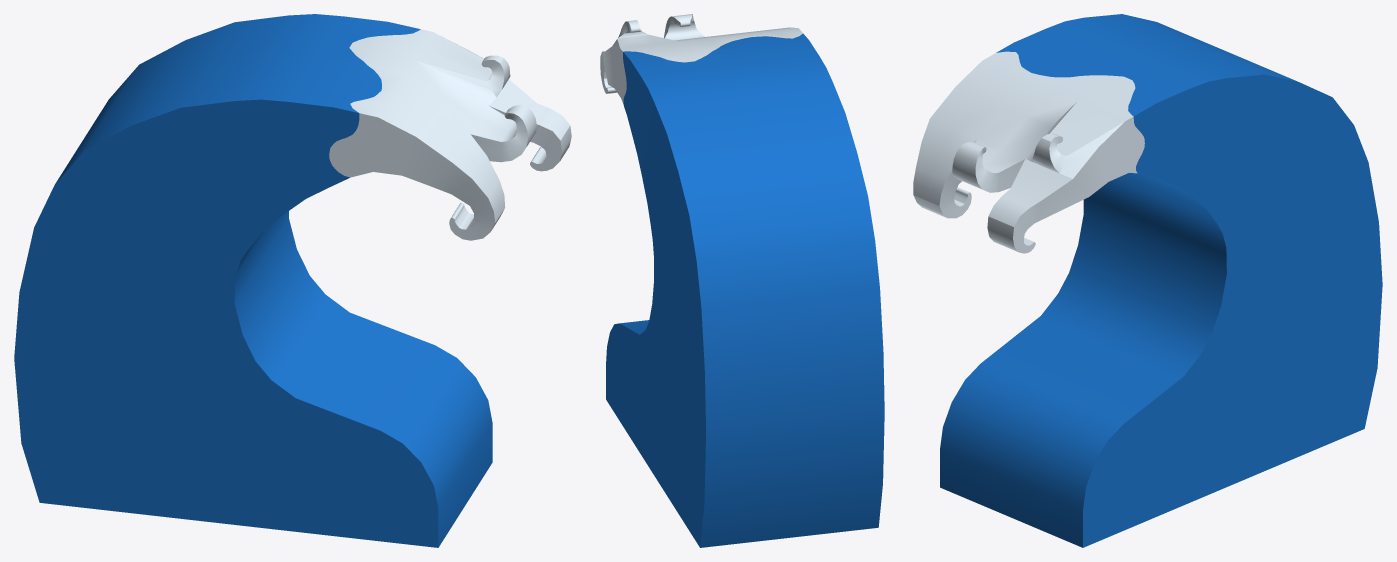
Rendered from water_wave.glb.
The picture shows the model from 3 angles, left to right: view 1: azimuth 30°, elevation 25°; view 2: azimuth 150°, elevation 25°; view 3: azimuth 270°, elevation 25°; orthographic projection. The views are drawn at different scales.
Parts seen in each view (by area): view 1: Cube.731; view 2: Cube.731; view 3: Cube.731.
Boxes of the visible parts, x1,y1,x2,y2 form: Cube.731: (14, 14, 571, 547); Cube.731: (600, 14, 884, 547); Cube.731: (913, 14, 1382, 547).
Bounding box in the file's own units: 2.12 × 1.98 × 2.03.
Materials: 1 (1 with a texture image).
